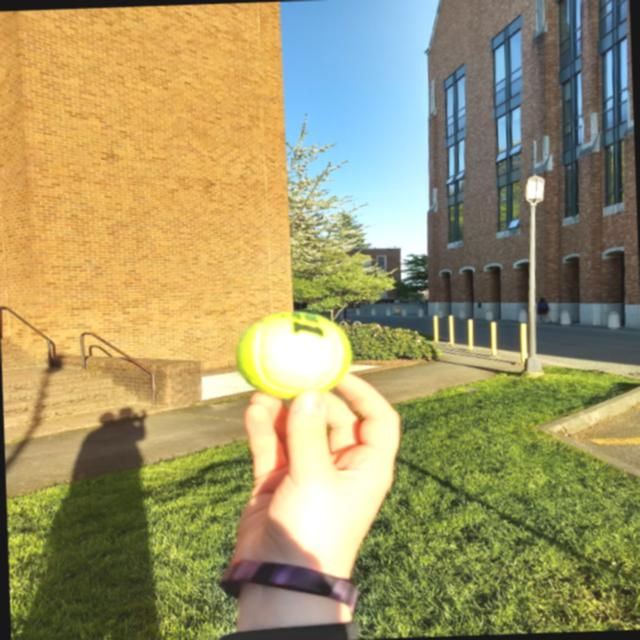tennis-ball: (236, 306, 352, 400)
